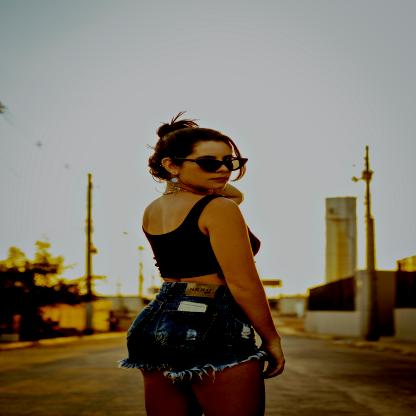jacket: (116, 280, 279, 386)
